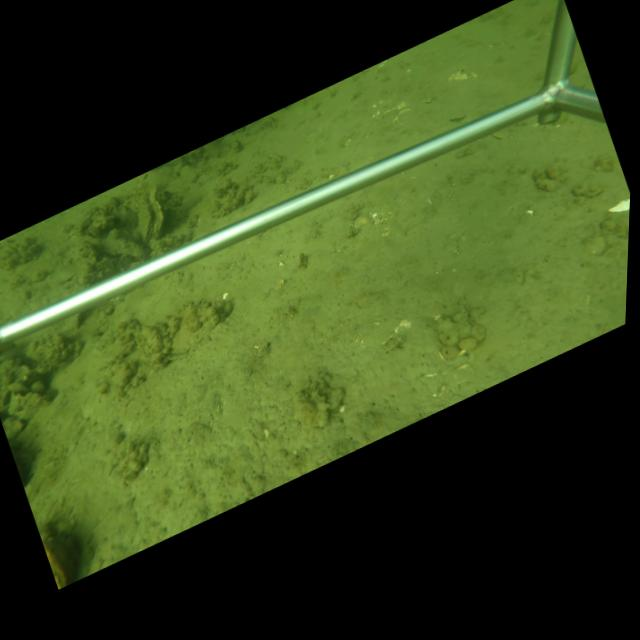Oyster-Closed: (150, 181, 169, 239), (136, 195, 156, 242)
